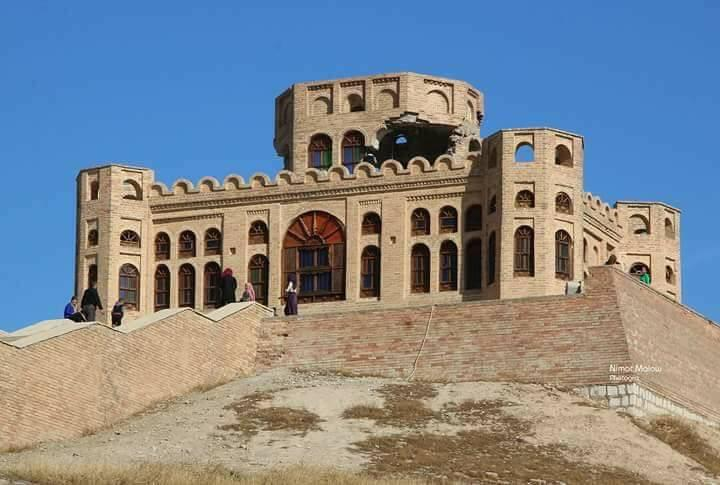affected: (63, 47, 689, 367)
